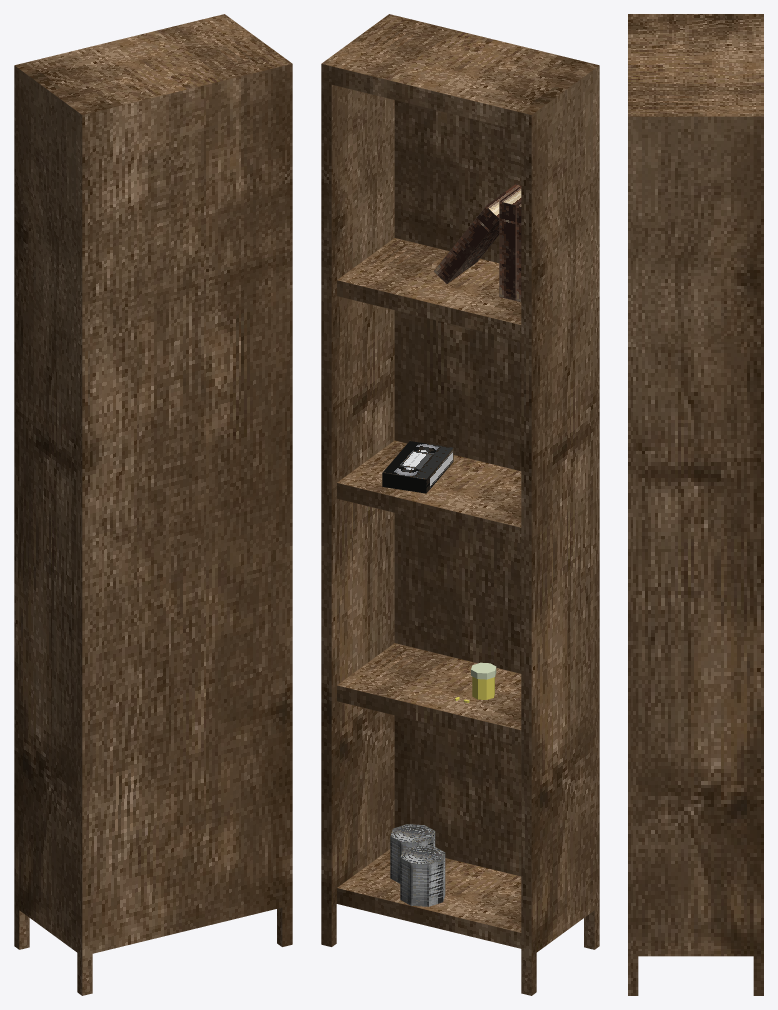
The model's file is Shelf.glb.
3 renders of one model, left to right at view 1: azimuth 30°, elevation 25°; view 2: azimuth 150°, elevation 25°; view 3: azimuth 270°, elevation 25°, orthographic.
Parts seen in each view (by area): view 1: Shelf; view 2: Shelf, Caset.002, Can, Book.006, Book.005, Can.001, PillCan; view 3: Shelf.
Part boxes in pixels (left/top/right/bottom): Shelf: left=14, top=14, right=292, bottom=995; Shelf: left=321, top=14, right=599, bottom=995; Caset.002: left=382, top=441, right=453, bottom=493; Can: left=400, top=845, right=445, bottom=906; Book.006: left=434, top=183, right=519, bottom=283; Book.005: left=499, top=185, right=521, bottom=300; Can.001: left=390, top=824, right=435, bottom=883; PillCan: left=471, top=662, right=496, bottom=699; Shelf: left=628, top=14, right=763, bottom=995.
Bounding box in the file's own units: 0.5 × 2 × 0.28.
Materials: 6 (4 with a texture image).
